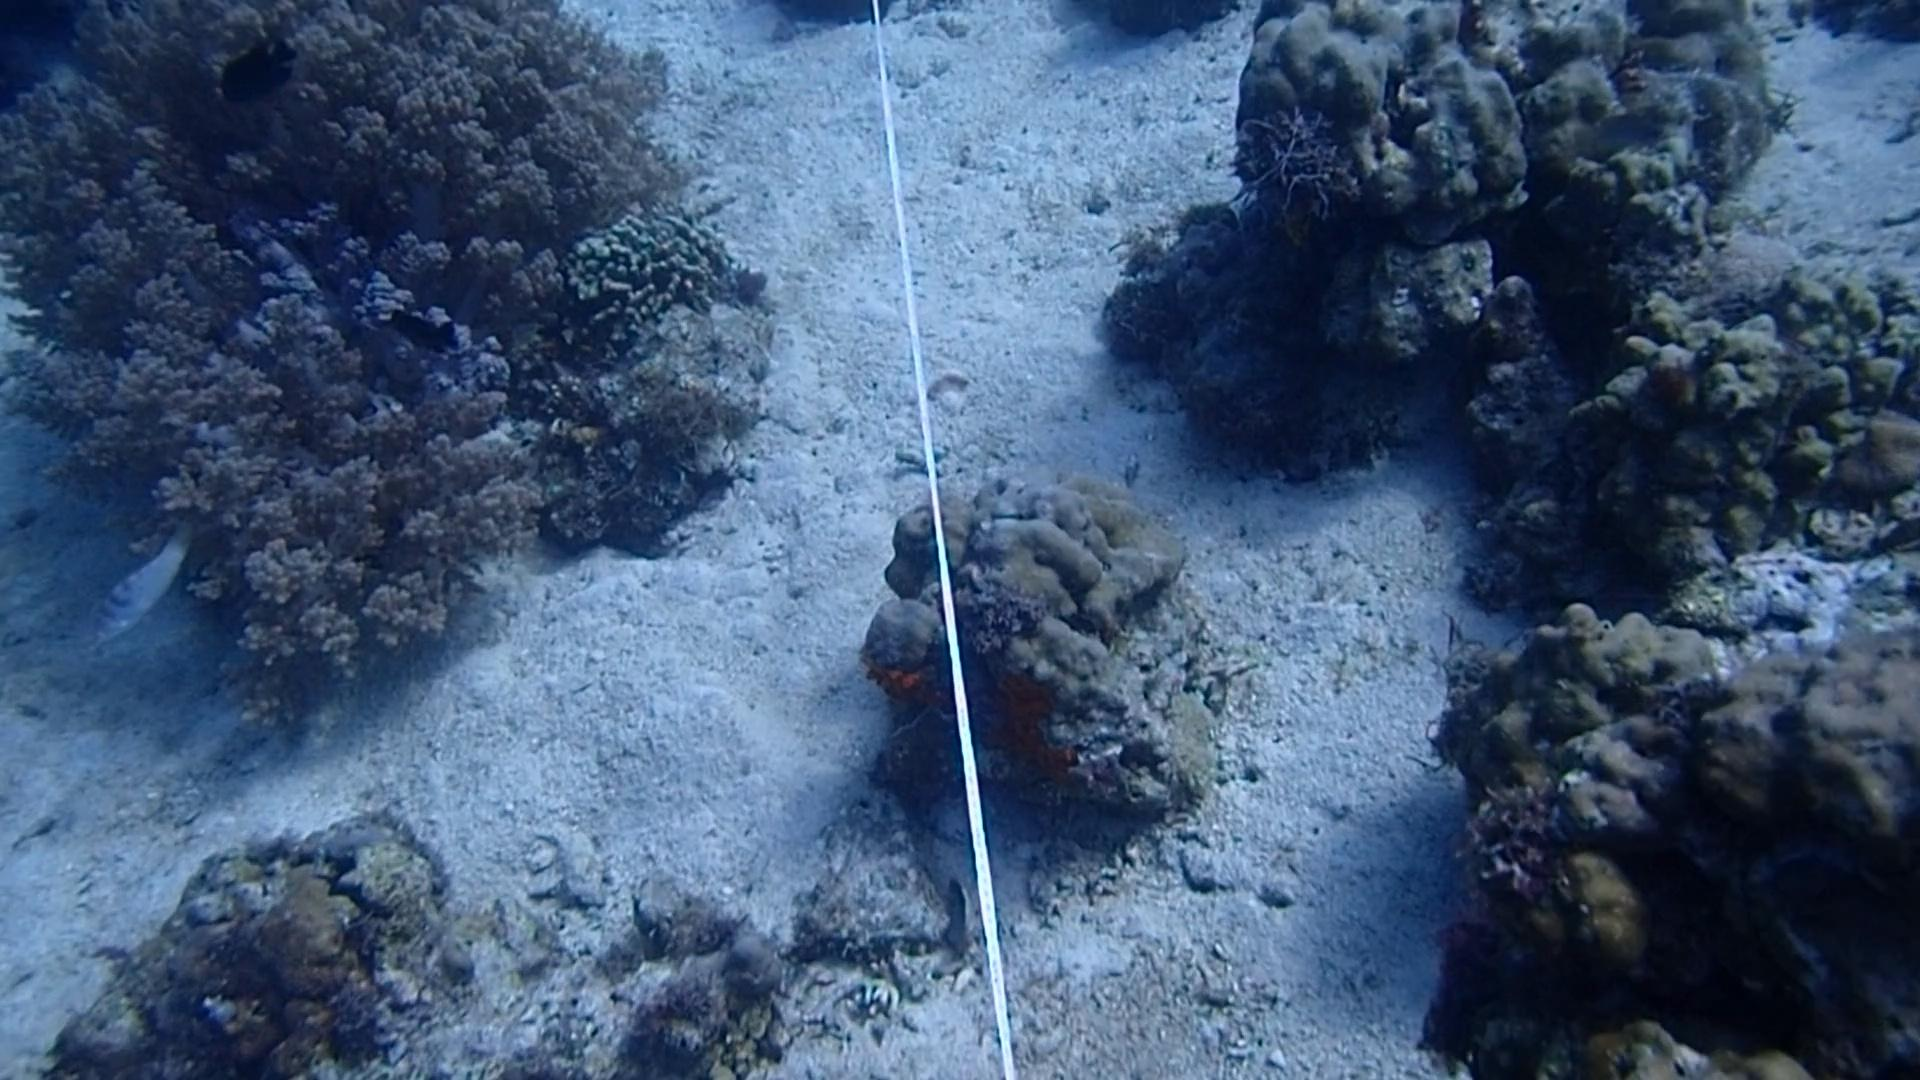Dark Fish: (215, 34, 306, 116), (373, 299, 459, 361)
Light Fish w Back Stripes: (90, 526, 198, 650)
